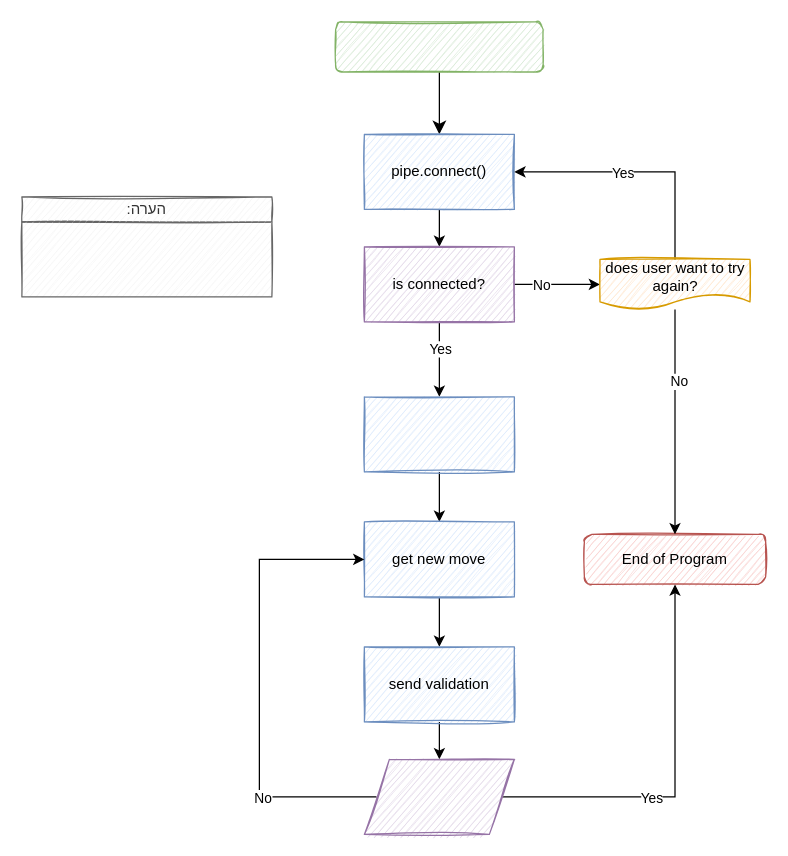
The diagram is 788 pixels wide and 856 high, and some of its shapes have lost their labels. The shapes that lost their labels are listed below. From the top down, each one's box as (x1, y1, x2, y2) in pixels, then its label:
(334, 21, 543, 72): Start
(21, 221, 272, 297): התרשים של ביצוע מהלך מופיע במסמך מהשאלה הראשונה
(363, 396, 514, 472): send initial board to frontend
(363, 758, 514, 834): is game over?
